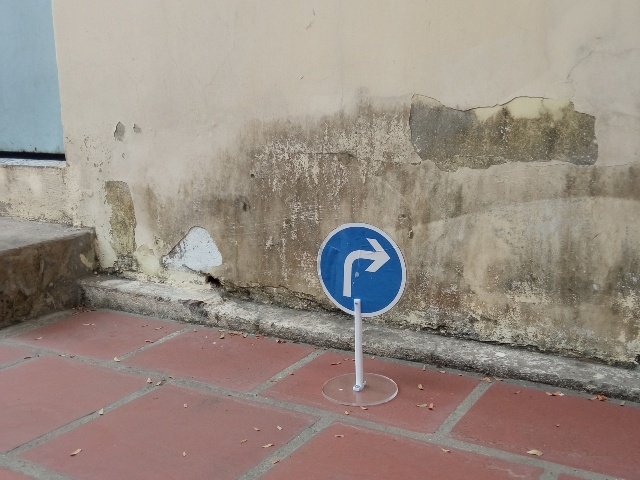Right_Sign: (316, 222, 407, 318)
